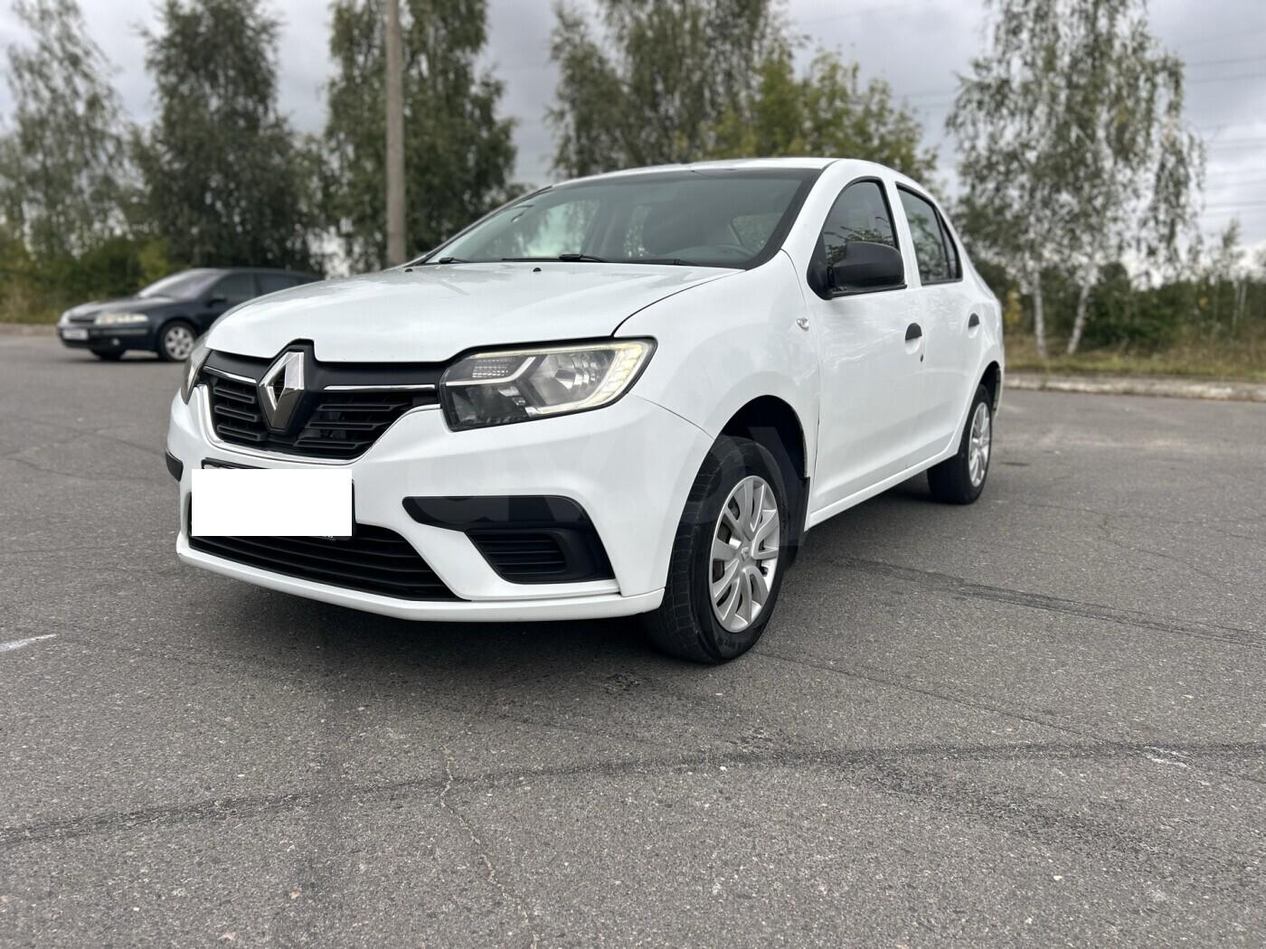Logan_2018: (163, 155, 1017, 647)
